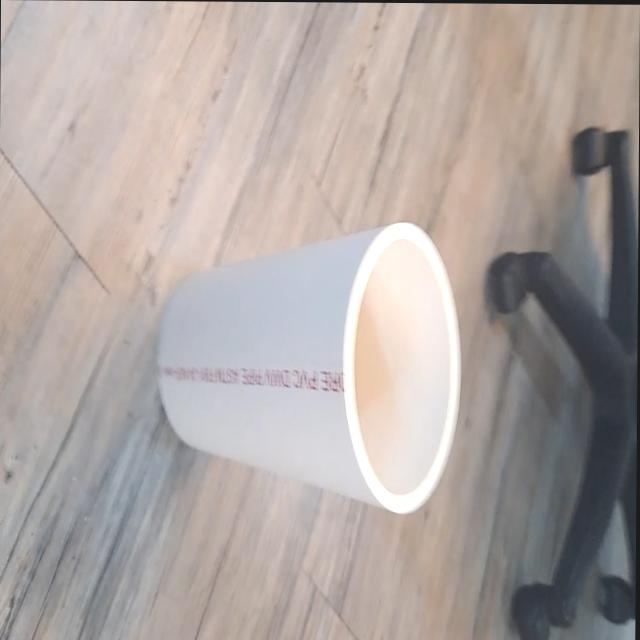CORAL: (150, 200, 478, 537)
